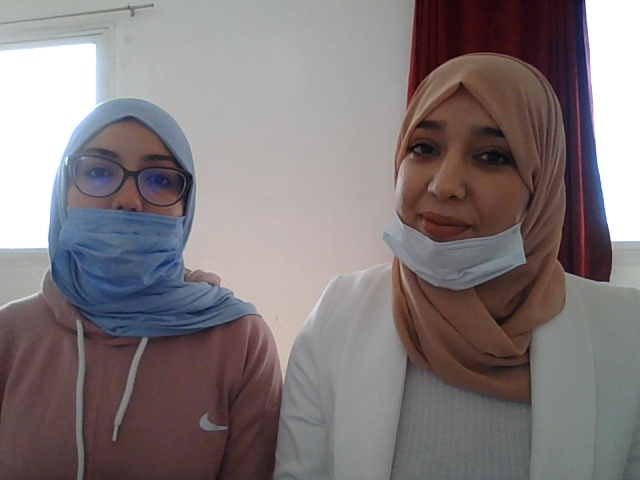mask_weared_incorrect: (375, 49, 561, 295), (41, 90, 229, 290)
